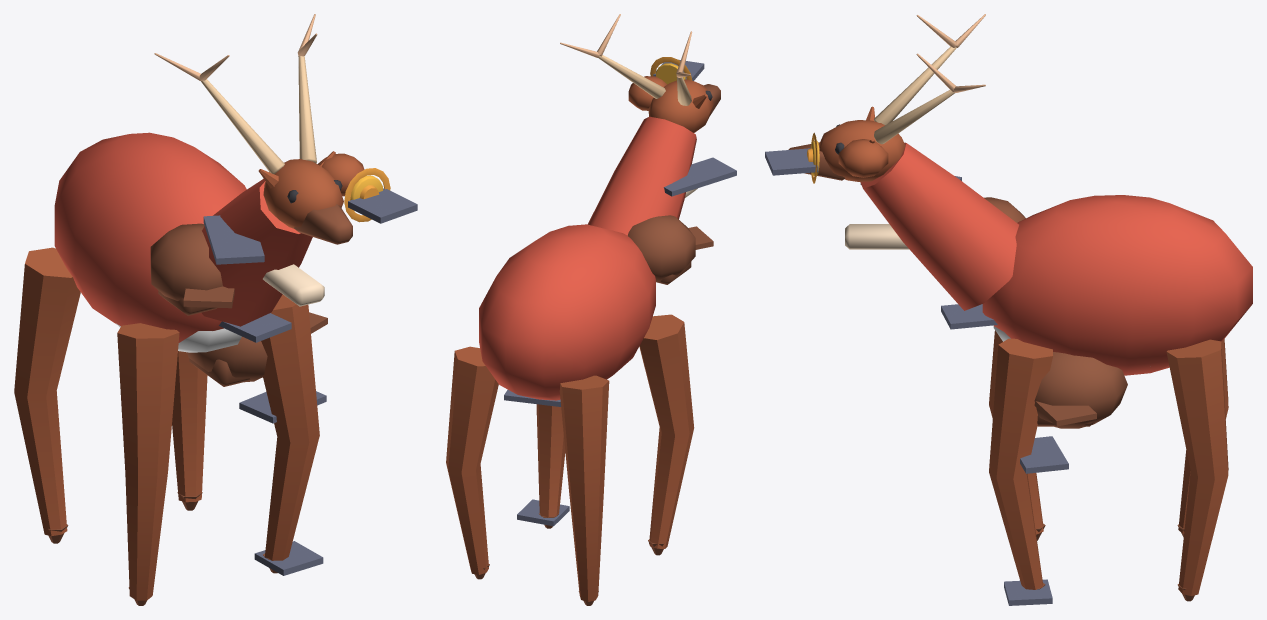
The model's file is flicker_stag.glb.
The picture shows the model from 3 angles, left to right: view 1: azimuth 30°, elevation 25°; view 2: azimuth 150°, elevation 25°; view 3: azimuth 270°, elevation 25°; orthographic projection. The views are drawn at different scales.
Visible parts, largest first — view 1: FlickerStag; view 2: FlickerStag; view 3: FlickerStag.
Boxes of the visible parts, left/top/right/bottom form: FlickerStag: left=14, top=14, right=417, bottom=605; FlickerStag: left=446, top=14, right=736, bottom=605; FlickerStag: left=765, top=14, right=1252, bottom=605.
Bounding box in the file's own units: 1.44 × 3.6 × 2.97.
Materials: 1 (1 with a texture image).
